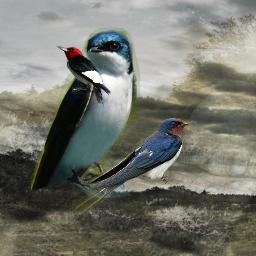Swallow: (31, 28, 140, 198), (72, 118, 190, 217)
Woodpecker: (56, 46, 112, 107)
